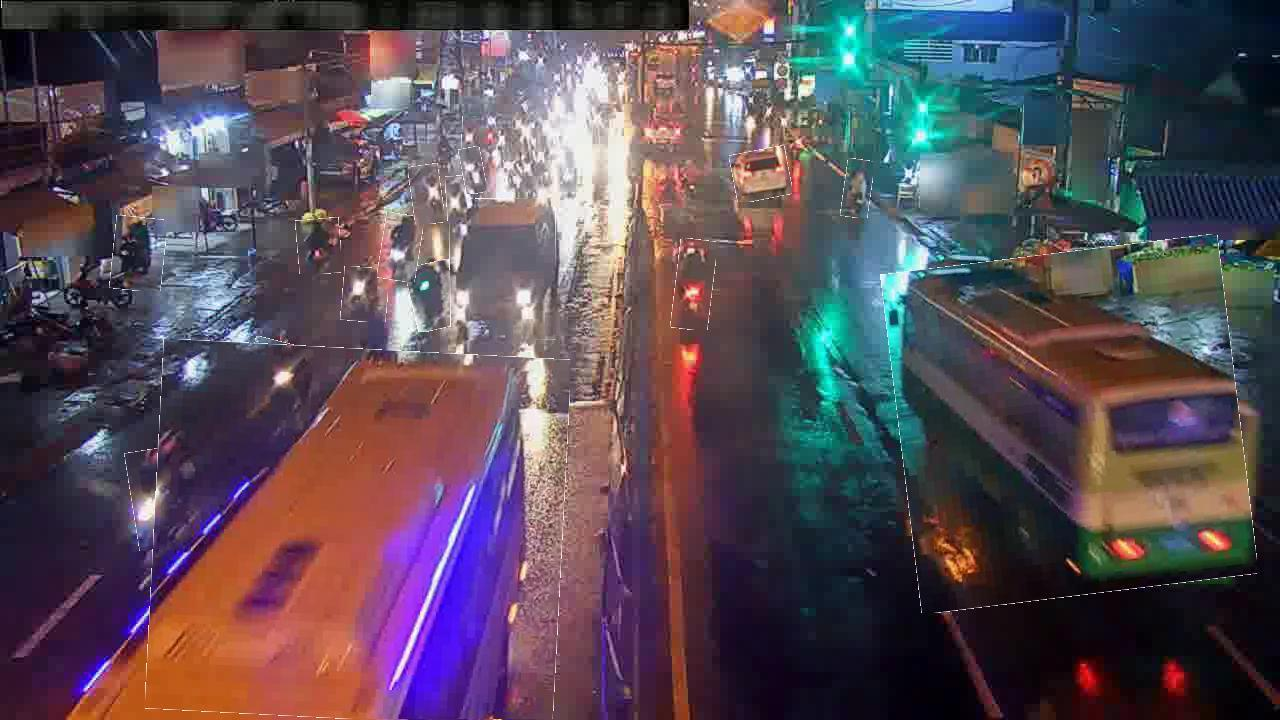car: (731, 148, 791, 201)
motorbike: (238, 340, 317, 448), (128, 448, 187, 551), (111, 216, 166, 291), (673, 239, 715, 331), (408, 261, 459, 331), (380, 214, 422, 282), (341, 267, 388, 323), (296, 218, 341, 275), (410, 164, 444, 225), (842, 159, 873, 219), (460, 147, 485, 195), (446, 176, 468, 223), (462, 116, 477, 150)
passenger_car: (149, 344, 567, 719), (890, 244, 1249, 605), (450, 199, 557, 341)
